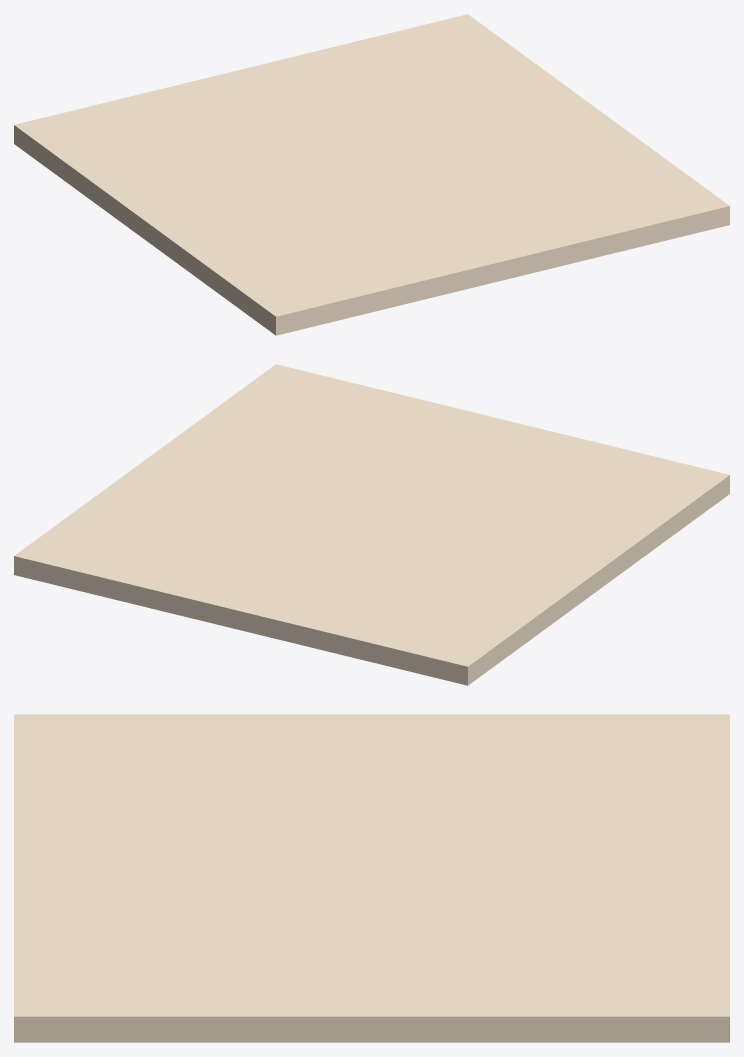
Rendered from floor.fbx.
3 views of the same model, one above another, from view 1: azimuth 30°, elevation 25°; view 2: azimuth 150°, elevation 25°; view 3: azimuth 270°, elevation 25° (orthographic). The views are drawn at different scales.
Visible parts, largest first — view 1: floor; view 2: floor; view 3: floor.
Boxes of the visible parts, x1,y1,x2,y2 form: floor: [14, 14, 729, 335]; floor: [14, 364, 729, 685]; floor: [14, 714, 729, 1042].
Bounding box in the file's own units: 1000 × 40 × 1000.
Materials: 1 (1 with a texture image).
